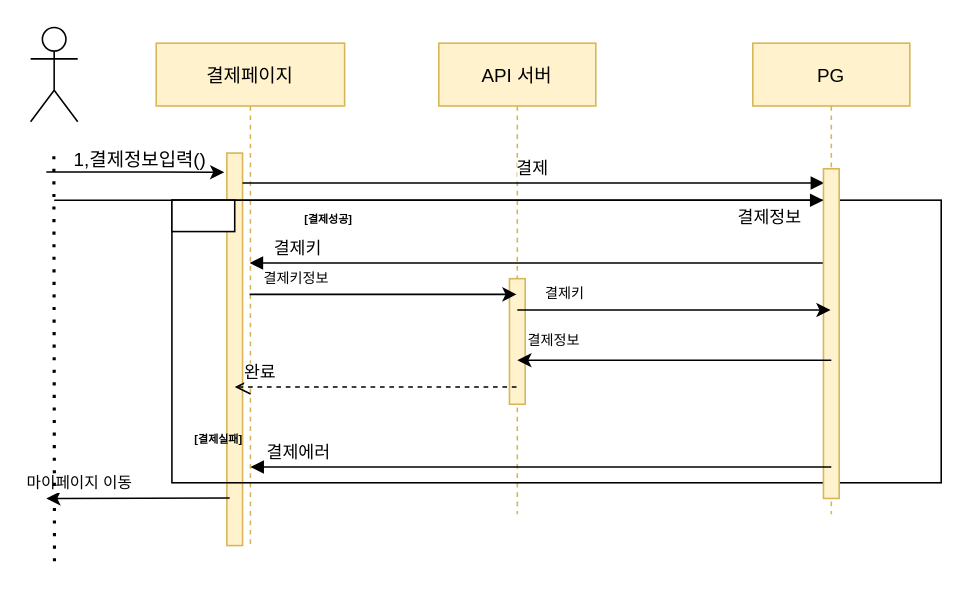
Image size: 970x592. Some labels were removed from this diagram. The shapes that lost their labels are listed below. From the top down, each one's centre as x and y in pixels, then its label:
At (x=53, y=74): "고객".
At (x=202, y=215): "alt".
